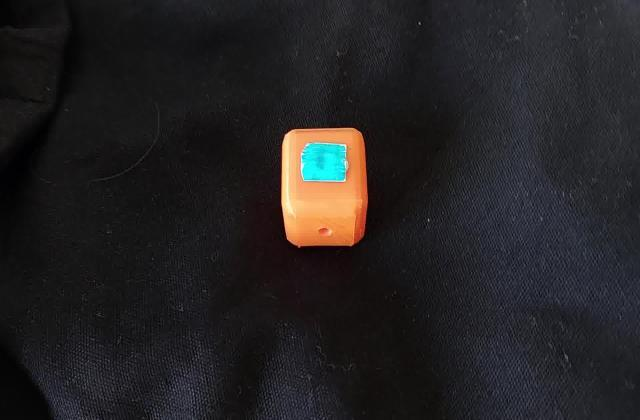blue: (309, 148, 341, 174)
sticker: (278, 122, 372, 252)
